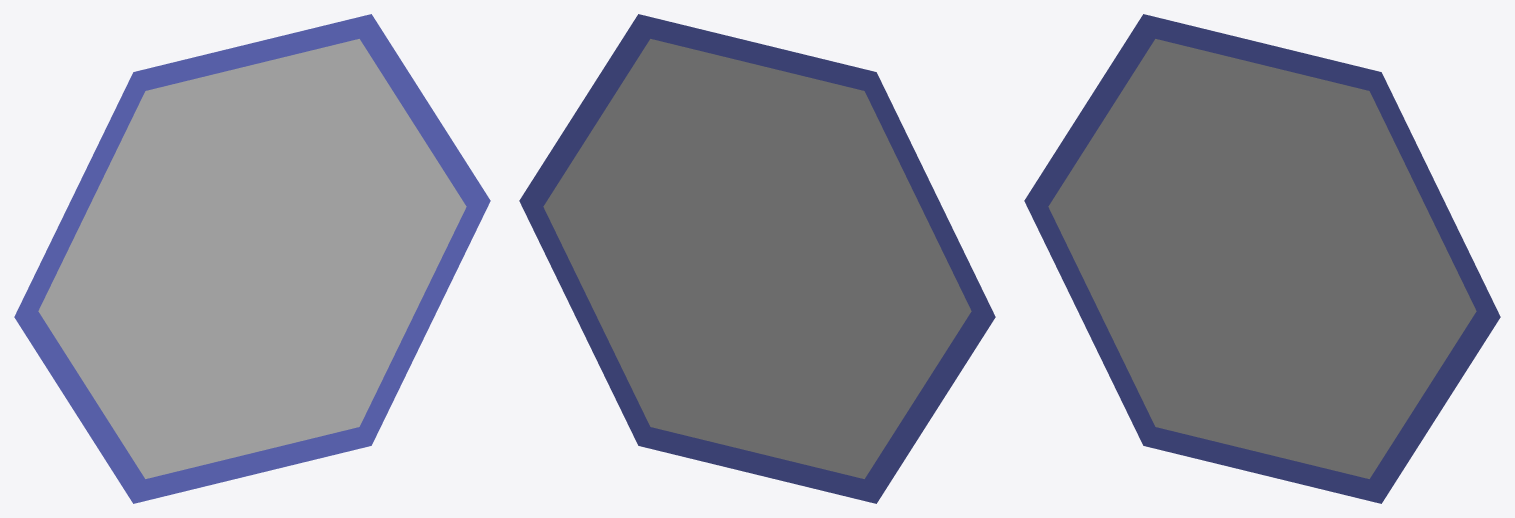
The model's file is Hex.fbx.
3 renders of one model, left to right at view 1: azimuth 30°, elevation 25°; view 2: azimuth 150°, elevation 25°; view 3: azimuth 330°, elevation 25°, orthographic.
Visible parts, largest first — view 1: HexTile; view 2: HexTile; view 3: HexTile.
Part boxes in pixels (<box>): HexTile: <box>14,14,490,503</box>; HexTile: <box>519,14,995,503</box>; HexTile: <box>1024,14,1500,503</box>.
Bounding box in the file's own units: 20000 × 17321 × 0.00238.
